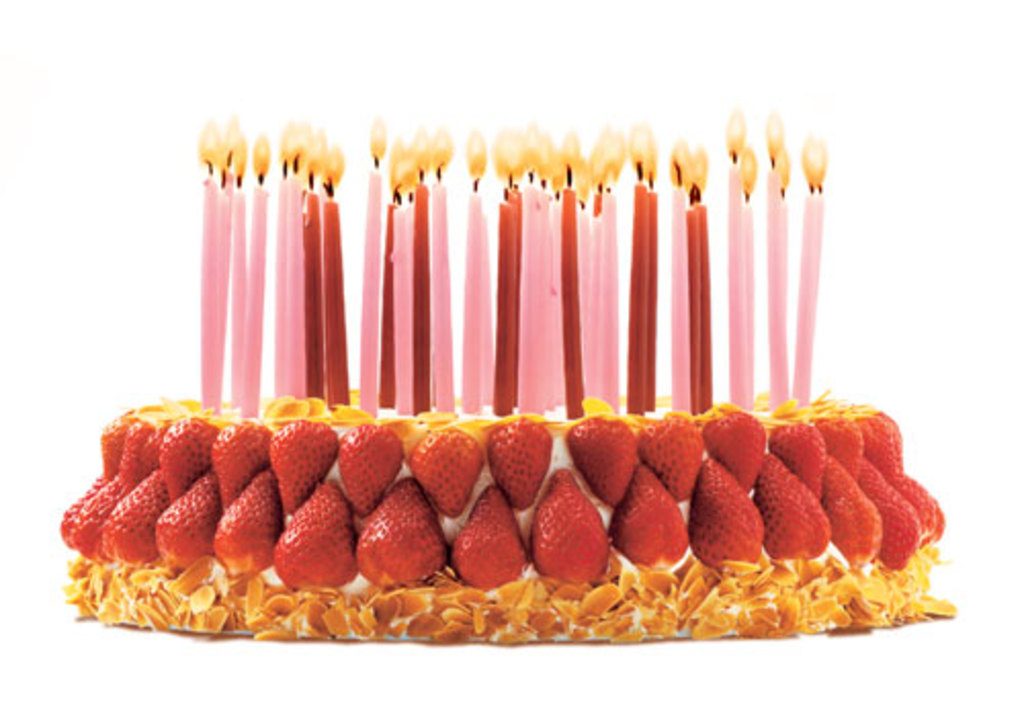cake: (55, 397, 954, 647)
